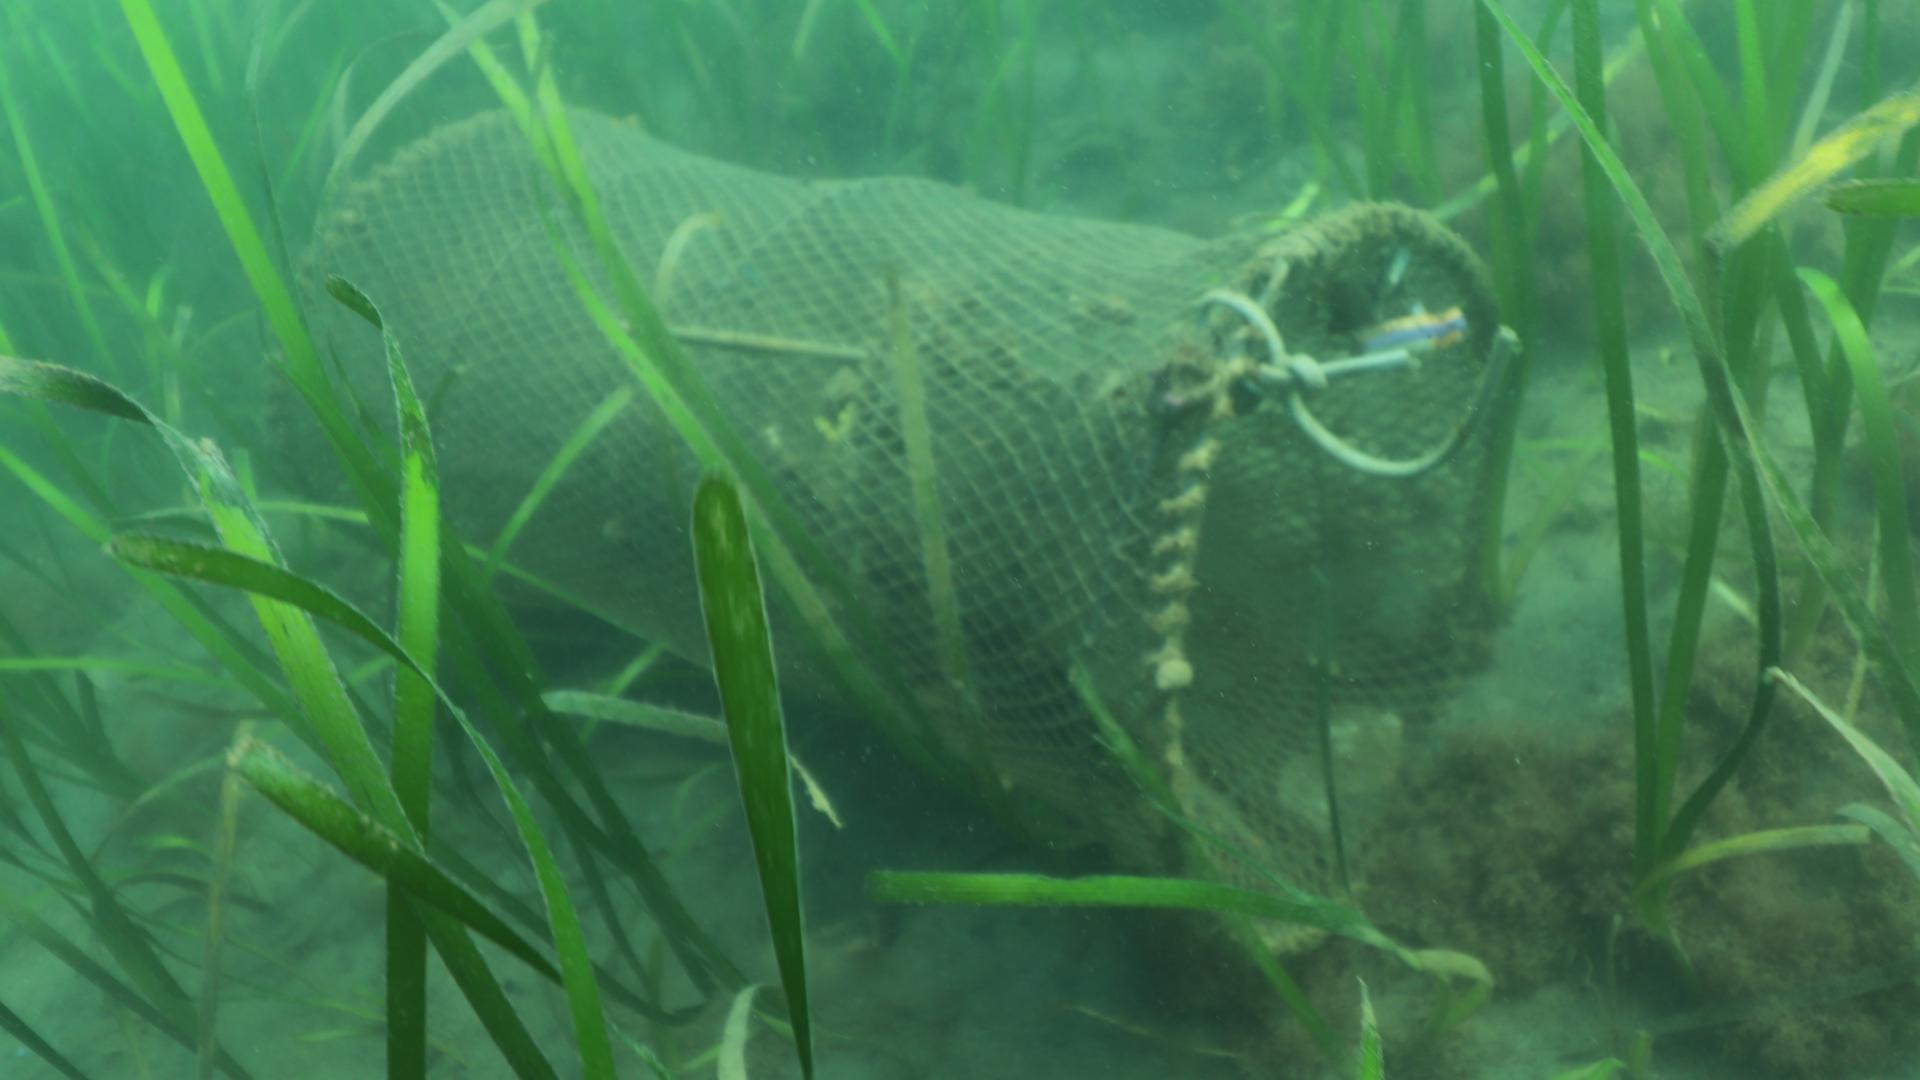spring fish trap: (287, 100, 1514, 956)
